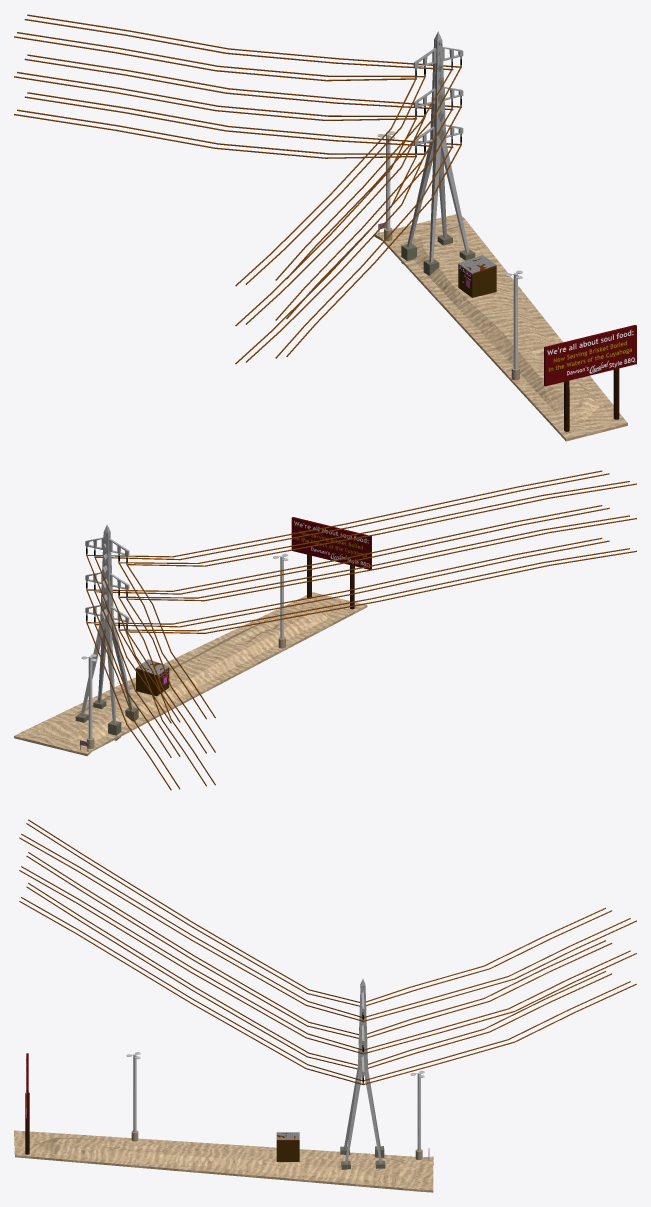
File: Love Shack.glb
The picture shows the model from 3 angles, top to bottom: view 1: azimuth 30°, elevation 25°; view 2: azimuth 150°, elevation 25°; view 3: azimuth 270°, elevation 25°; orthographic projection. The views are drawn at different scales.
Visible parts, largest first — view 1: Wires, Ground, Tower, Billboard, Post.001, Shack, Text.004, Bases, Stand.001; view 2: Wires, Ground, Tower, Billboard, Post.001, Shack, Text.002, Bases; view 3: Wires, Ground, Tower, Post.001.
Boxes of the visible parts, left/top/right/bottom form: Wires: left=14, top=14, right=461, bottom=363; Ground: left=374, top=214, right=627, bottom=441; Tower: left=407, top=31, right=469, bottom=262; Billboard: left=544, top=325, right=636, bottom=386; Post.001: left=377, top=131, right=522, bottom=380; Shack: left=458, top=265, right=496, bottom=297; Text.004: left=547, top=330, right=633, bottom=371; Bases: left=401, top=234, right=475, bottom=275; Stand.001: left=564, top=368, right=619, bottom=431; Wires: left=86, top=470, right=636, bottom=790; Ground: left=14, top=592, right=367, bottom=756; Tower: left=80, top=525, right=133, bottom=723; Billboard: left=291, top=517, right=371, bottom=569; Post.001: left=81, top=553, right=288, bottom=748; Shack: left=136, top=668, right=169, bottom=696; Text.002: left=294, top=521, right=368, bottom=557; Bases: left=75, top=699, right=138, bottom=740; Wires: left=19, top=819, right=636, bottom=1084; Ground: left=14, top=1130, right=433, bottom=1192; Tower: left=344, top=979, right=381, bottom=1163; Post.001: left=126, top=1052, right=424, bottom=1159.
Size of the model in its own units: 59 by 28.06 by 82.76.
Materials: 21 (2 with a texture image).
